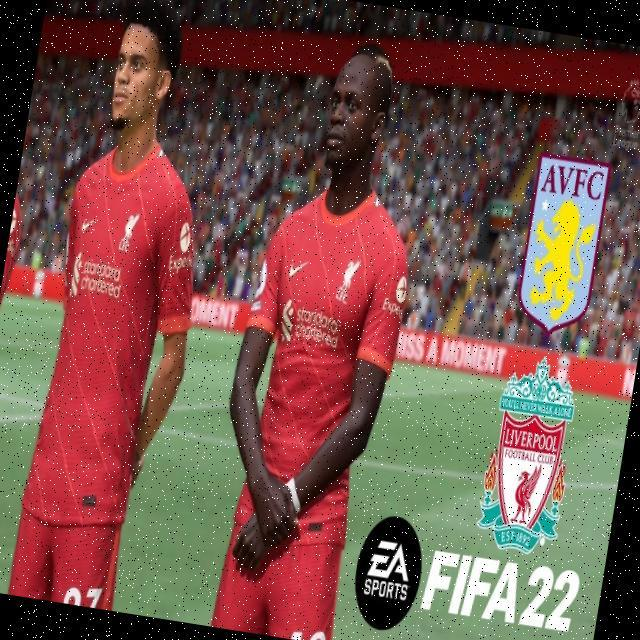Nike: (289, 260, 308, 280), (81, 217, 96, 234)
Standard Chartered: (279, 297, 344, 350), (69, 250, 126, 305)
